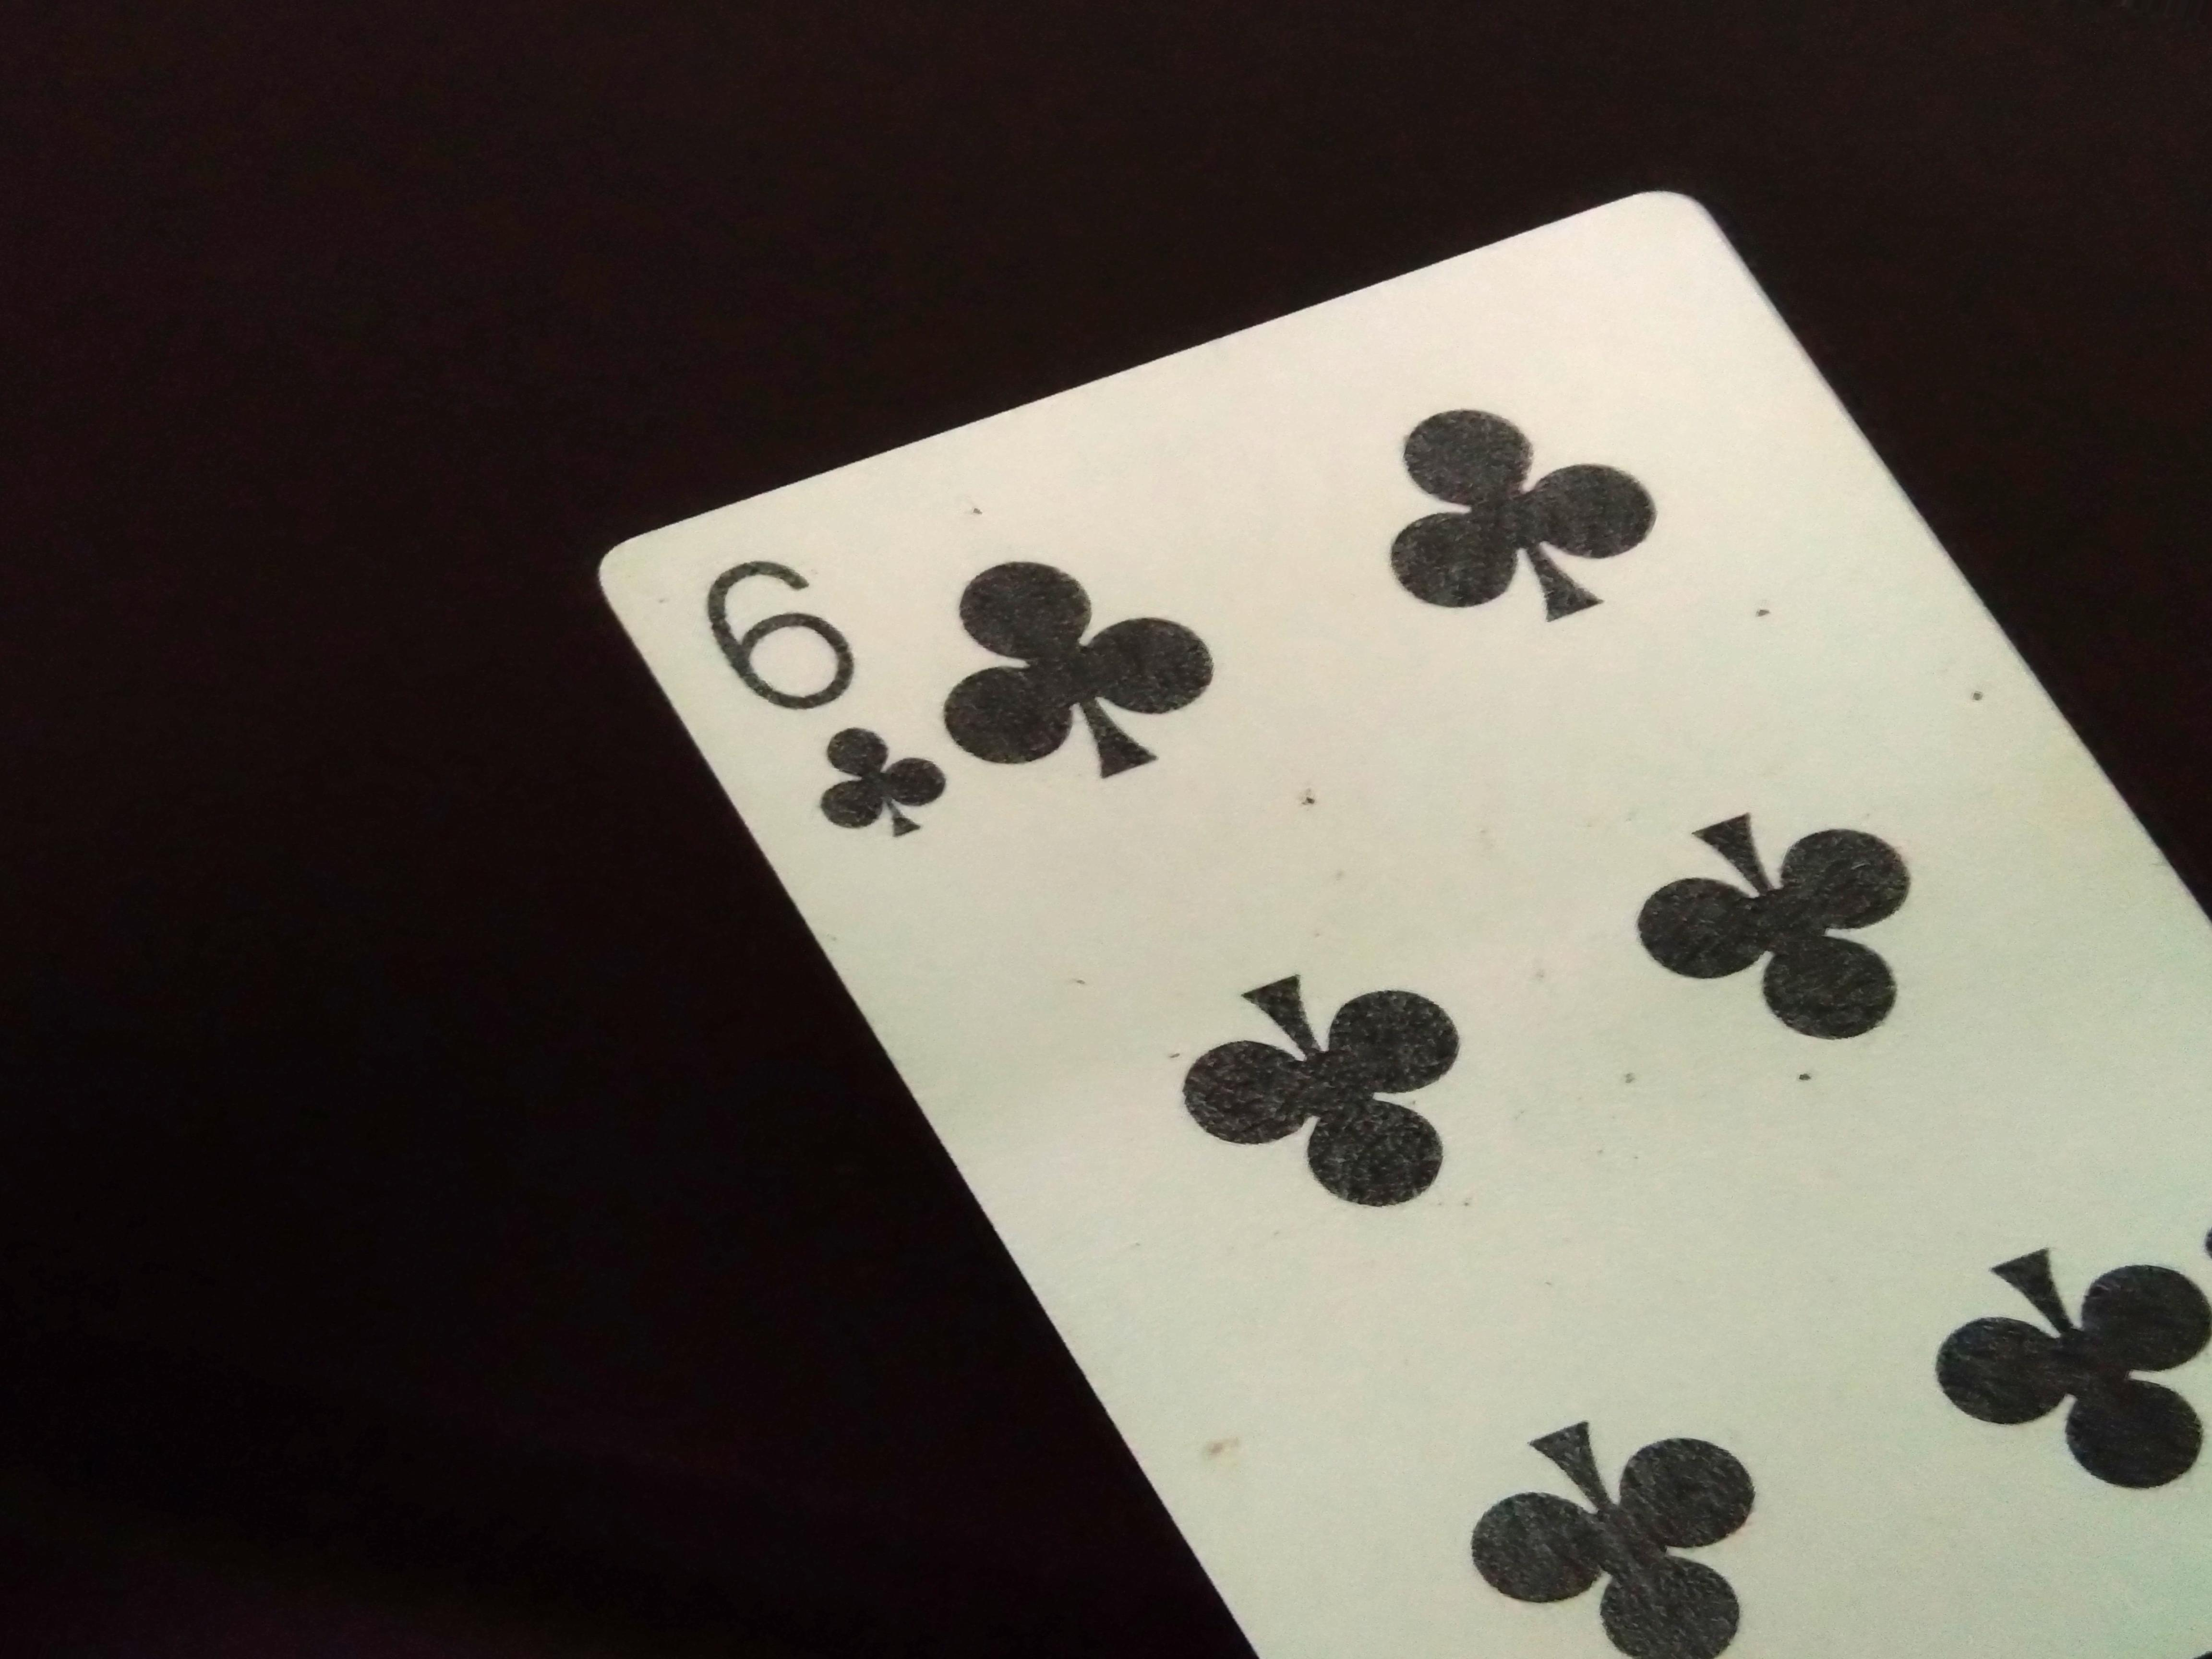6C: (705, 547, 953, 856)
